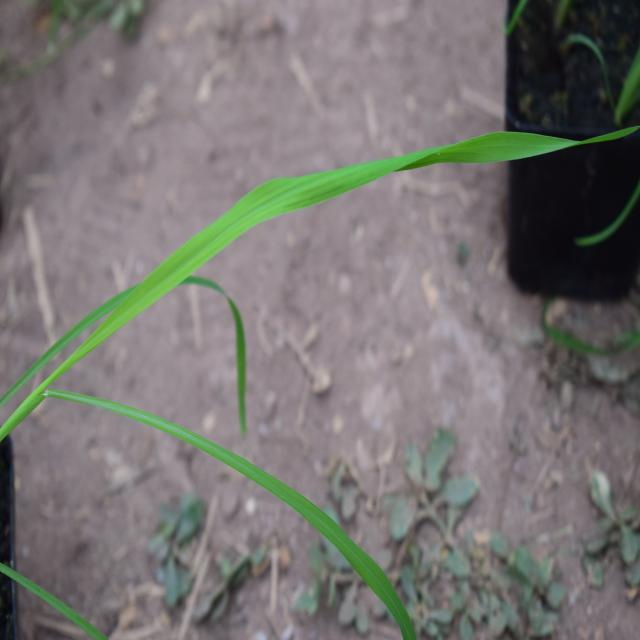barnyard_grass: (14, 65, 567, 562)
